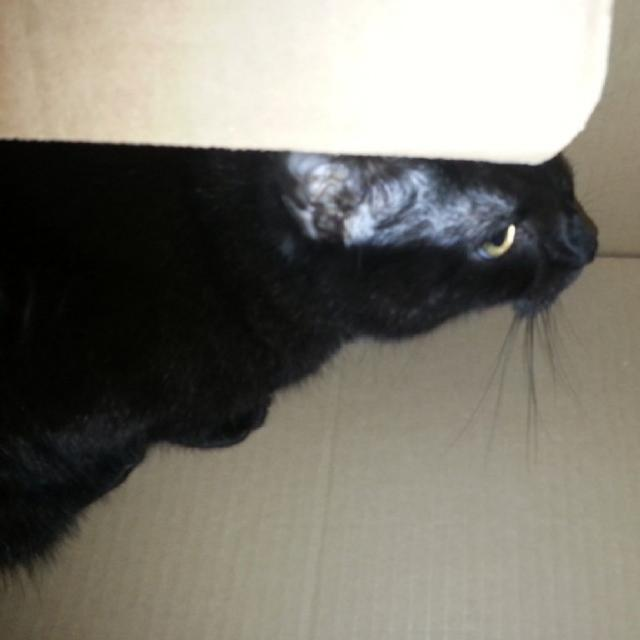Cat: (0, 134, 606, 590)
